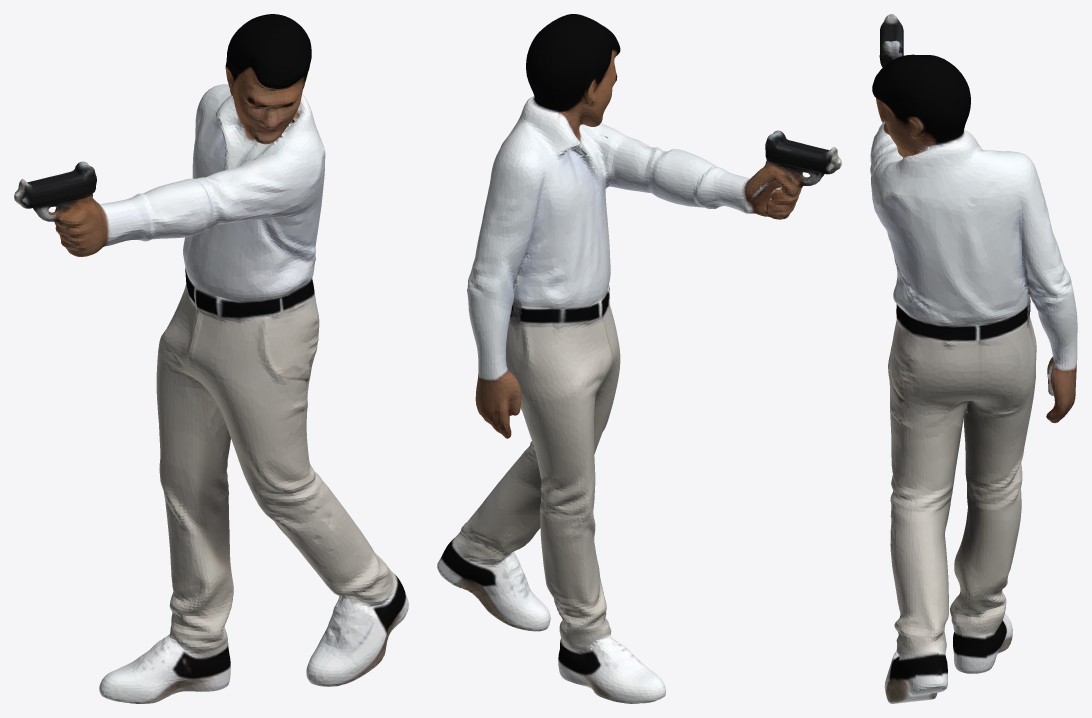
The model's file is shoot_1.glb.
3 views of the same model, side by side, from view 1: azimuth 30°, elevation 25°; view 2: azimuth 150°, elevation 25°; view 3: azimuth 270°, elevation 25° (orthographic). The views are drawn at different scales.
Visible parts, largest first — view 1: tmpsj7fubav.ply; view 2: tmpsj7fubav.ply; view 3: tmpsj7fubav.ply.
Part boxes in pixels (x1,y1,x2,y2): tmpsj7fubav.ply: (14,14,408,703); tmpsj7fubav.ply: (437,14,841,703); tmpsj7fubav.ply: (870,14,1077,703).
Size of the model in its own units: 1.26 by 1.99 by 0.5959.
Materials: 1 (1 with a texture image).
